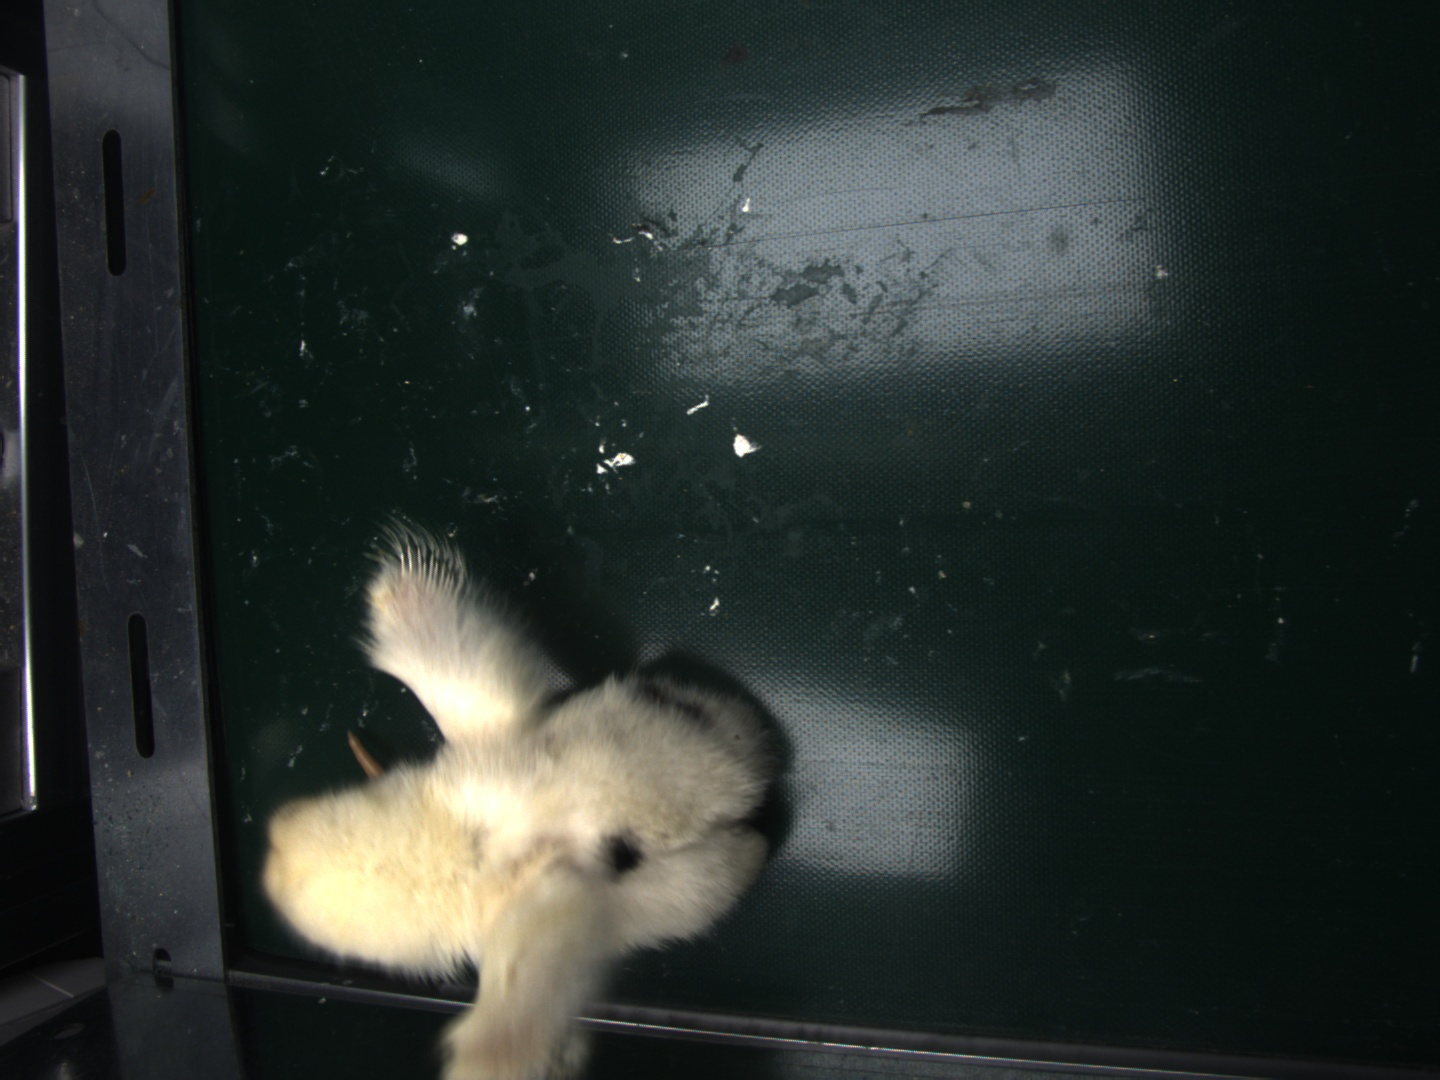male: (392, 548, 466, 602)
